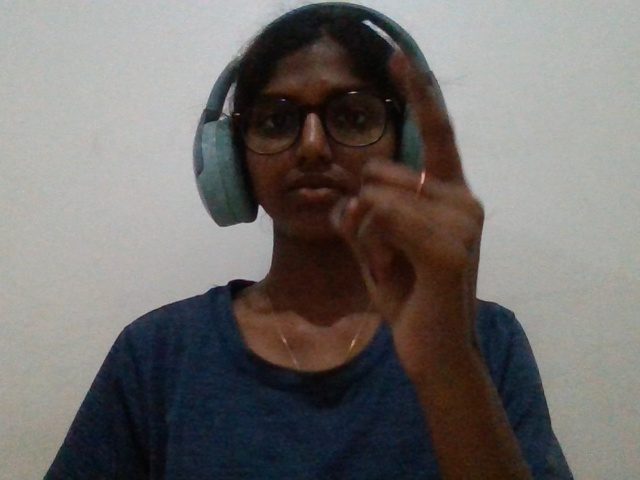You: (312, 44, 527, 390)
